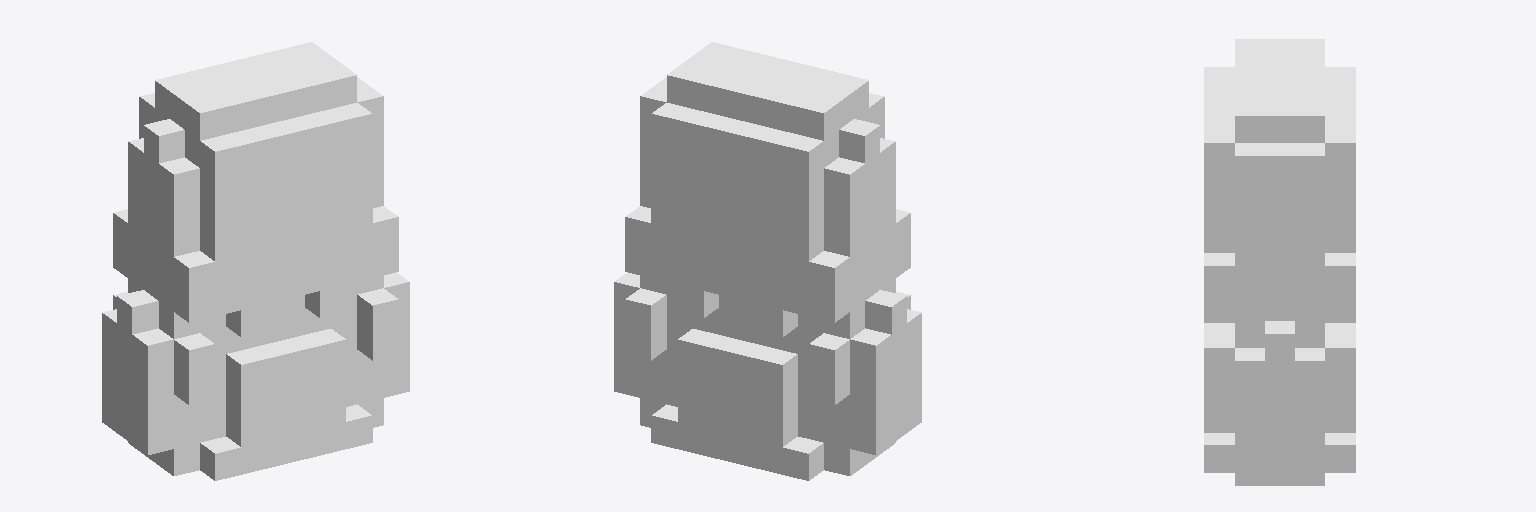
File: skele_mage.obj
3 renders of one model, left to right at view 1: azimuth 30°, elevation 25°; view 2: azimuth 150°, elevation 25°; view 3: azimuth 270°, elevation 25°, orthographic.
Visible parts, largest first — view 1: skele_mage; view 2: skele_mage; view 3: skele_mage.
Boxes of the visible parts, x1,y1,x2,y2 form: skele_mage: [102, 42, 409, 480]; skele_mage: [614, 42, 921, 480]; skele_mage: [1204, 39, 1355, 485].
Bounding box in the file's own units: 10 × 13 × 5.